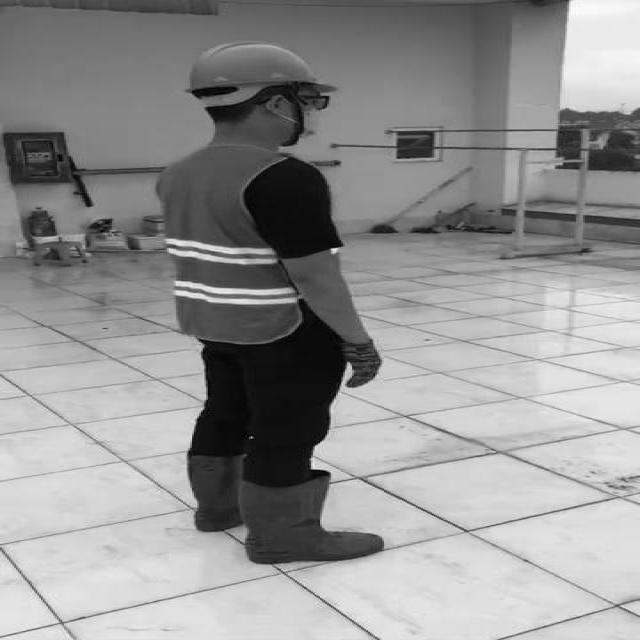boots: (240, 470, 380, 565), (183, 441, 290, 534)
hand_glove: (336, 340, 388, 393)
head_helmet: (182, 40, 342, 96)
person: (144, 39, 391, 567)
vest: (156, 144, 346, 342)
